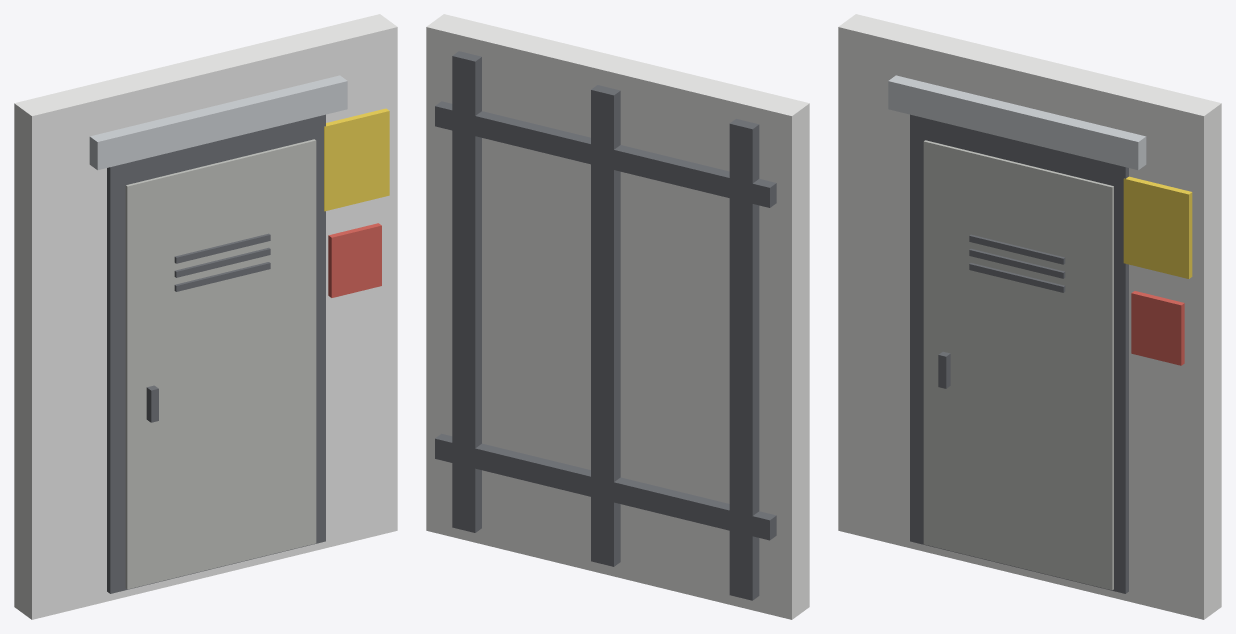
File: wind-and-solar-energy-farm-turbine-access-door-panel-bfd65b77__34052.glb
The picture shows the model from 3 angles, left to right: view 1: azimuth 30°, elevation 25°; view 2: azimuth 150°, elevation 25°; view 3: azimuth 330°, elevation 25°; orthographic projection.
Visible parts, largest first — view 1: turbine-access-door-panel, door/grey, door/charcoal; view 2: turbine-access-door-panel; view 3: turbine-access-door-panel, door/grey, door/charcoal.
Boxes of the visible parts, <box> form: turbine-access-door-panel: <box>14,14,397,619</box>; door/grey: <box>125,139,316,589</box>; door/charcoal: <box>146,233,270,422</box>; turbine-access-door-panel: <box>426,14,809,619</box>; turbine-access-door-panel: <box>838,14,1221,619</box>; door/grey: <box>923,140,1113,590</box>; door/charcoal: <box>938,234,1065,388</box>.
Size of the model in its own units: 1.9 by 2.5 by 0.305.
